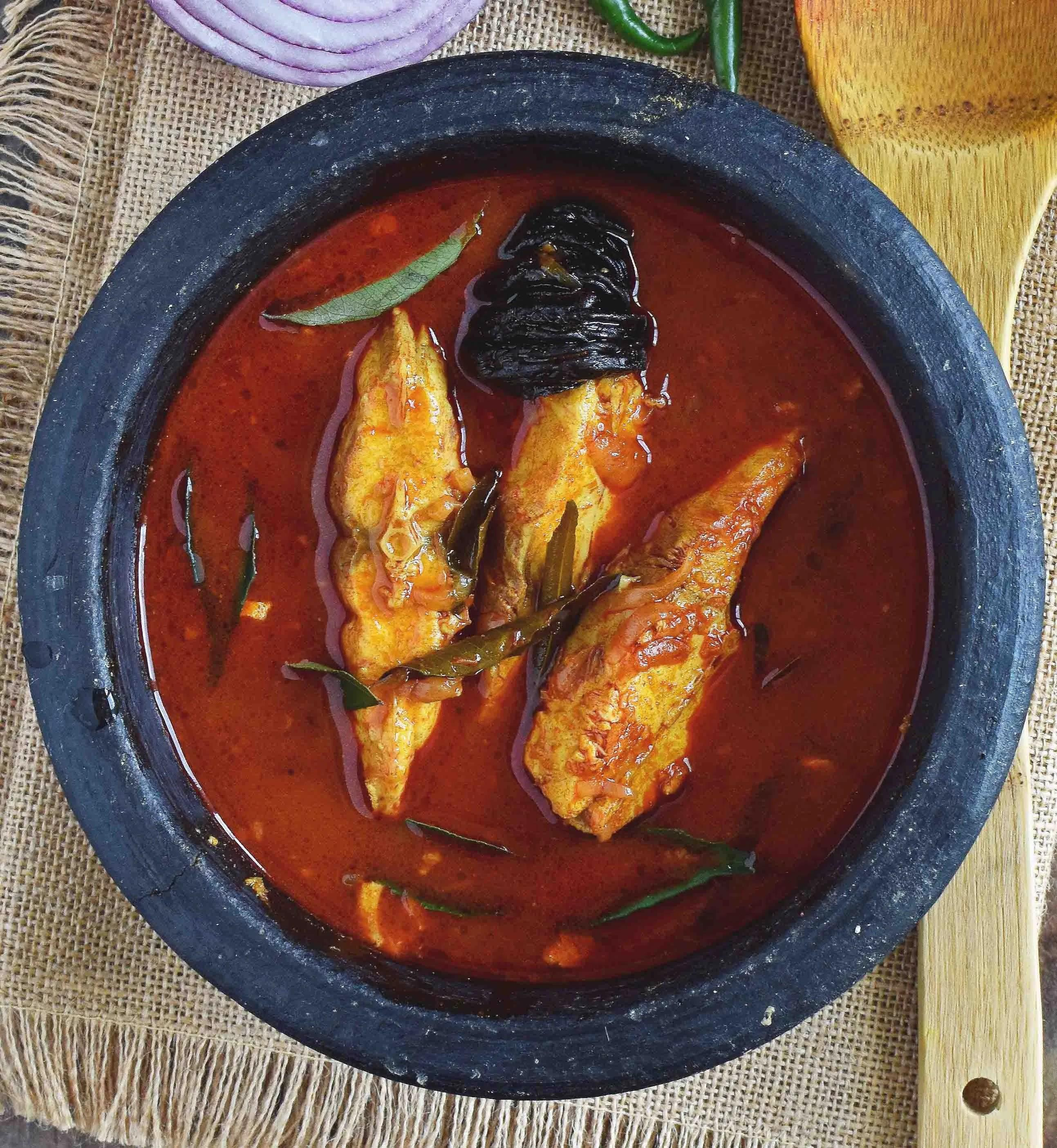FishCurry: (140, 165, 937, 976)
